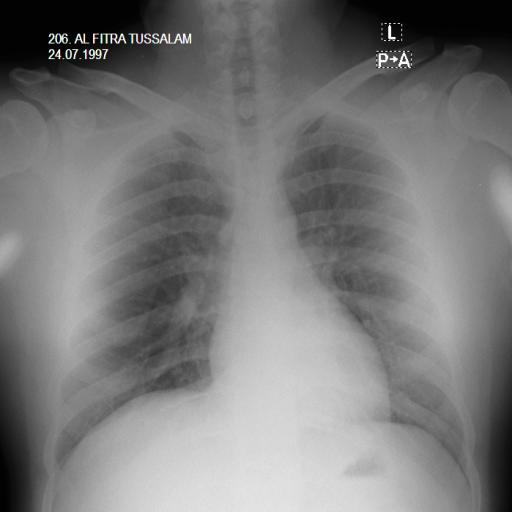normal: (42, 71, 486, 503)
